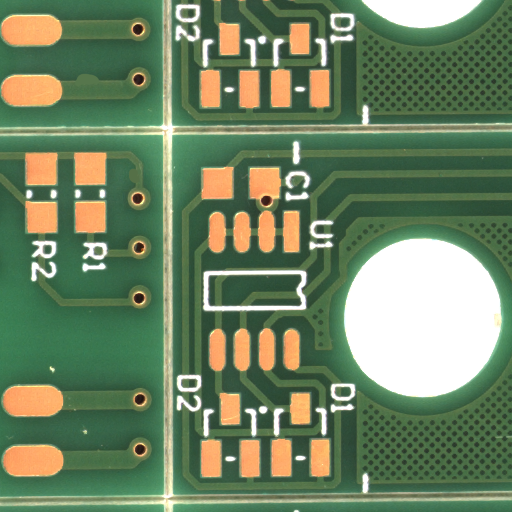Spur: (86, 79, 117, 91), (131, 175, 144, 192)
